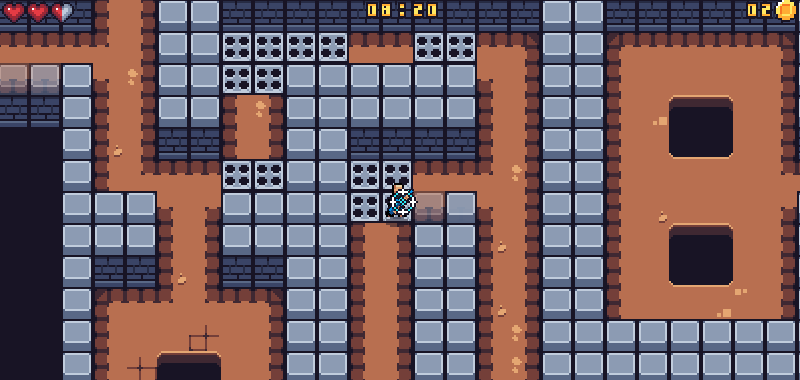trap_off: (220, 31, 283, 92), (352, 161, 412, 221), (284, 31, 347, 63), (222, 159, 285, 189), (414, 33, 475, 63)
